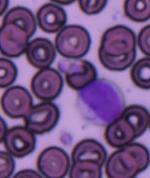L: (76, 77, 124, 126)
